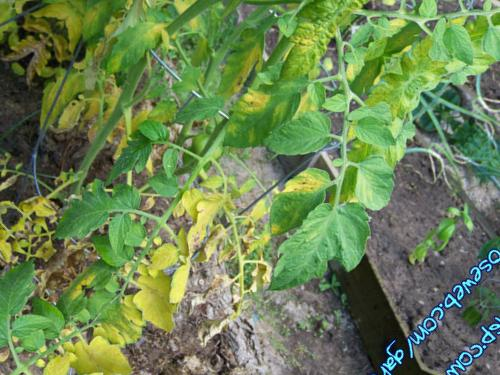Tomato leaf yellow virus: (243, 177, 392, 328), (202, 51, 331, 182), (38, 152, 156, 271), (247, 143, 349, 246), (91, 3, 180, 94), (338, 143, 409, 214)
